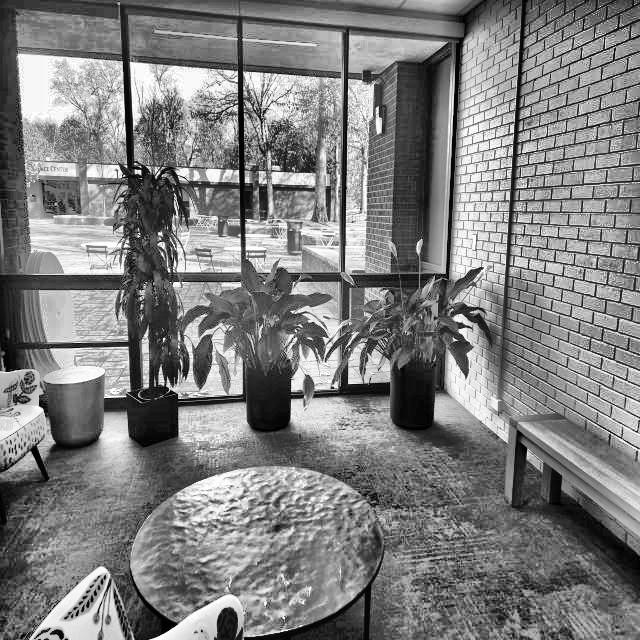plants: (110, 154, 186, 382), (371, 256, 483, 374), (216, 268, 326, 364)
